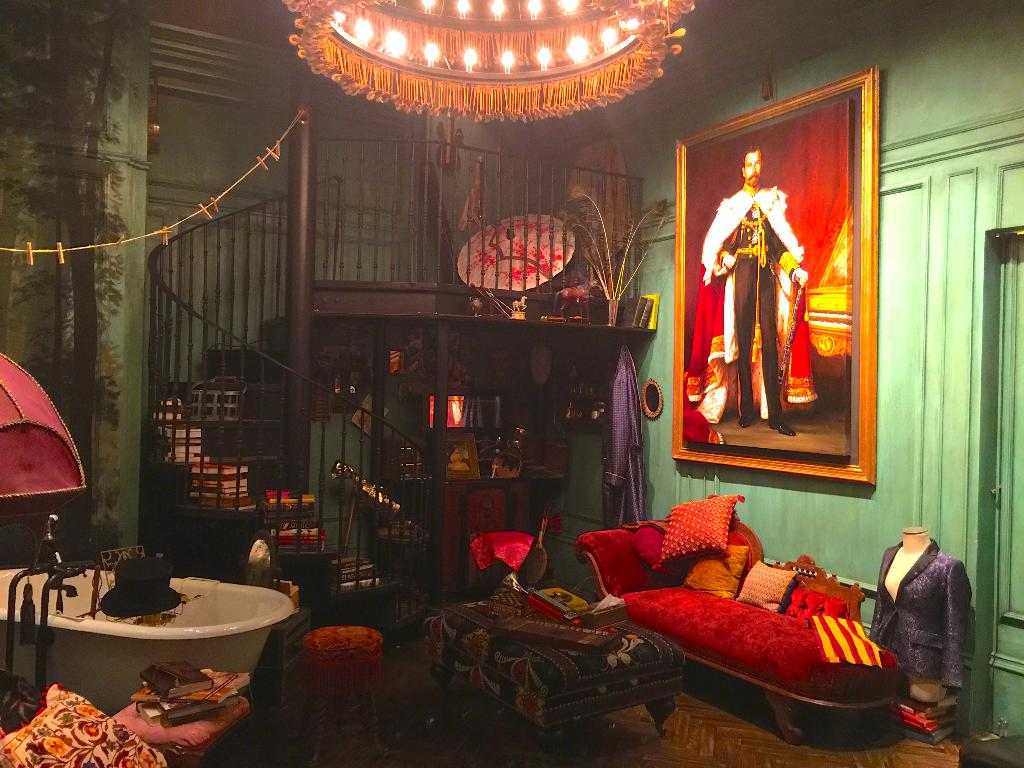Couch: (585, 513, 927, 733)
